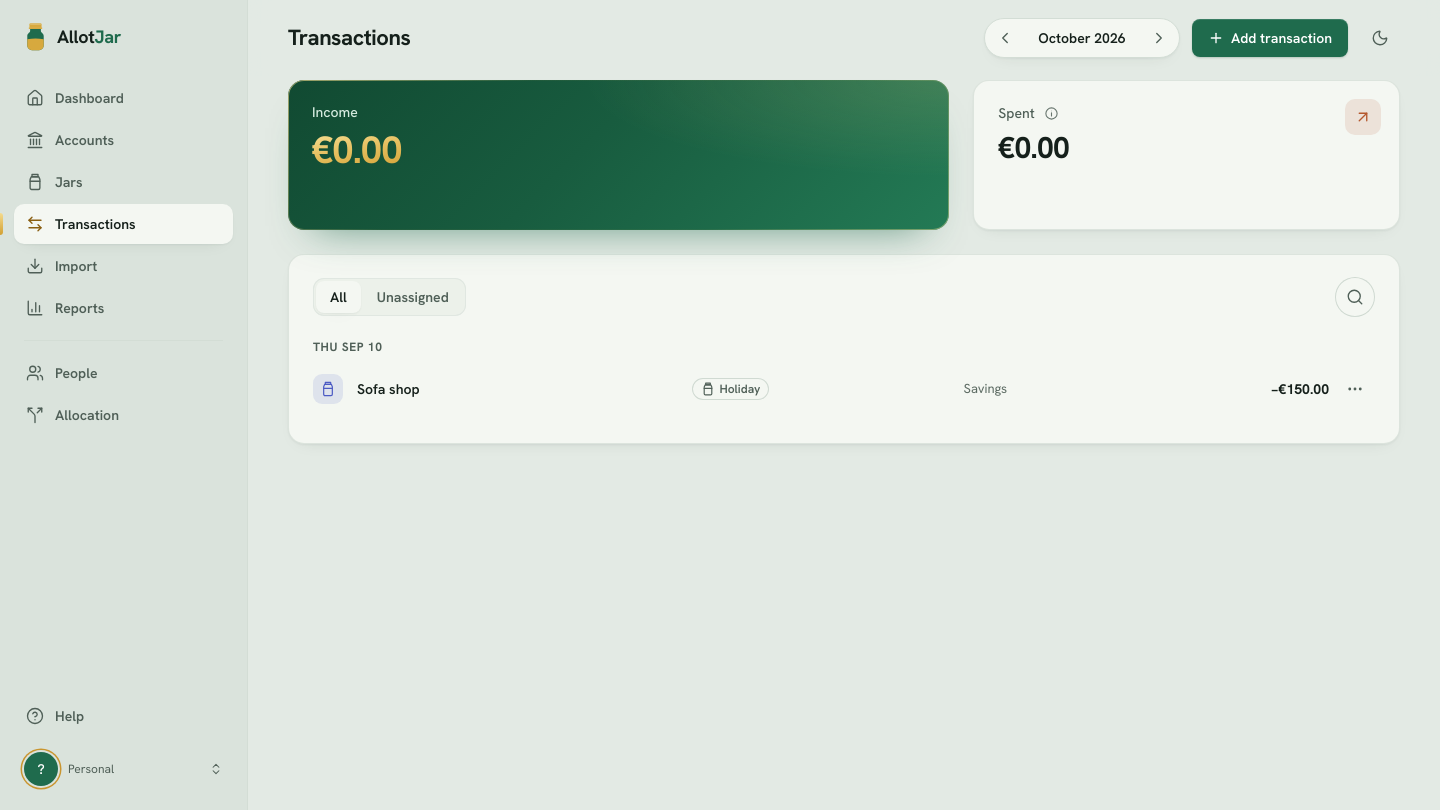
Test case: TransactionsPage jar prompts › O9b: a refund's jar prompt says what leaving it empty does
Click the button "Add transaction": (1270, 38) x1=1192 y1=19 x2=1348 y2=57
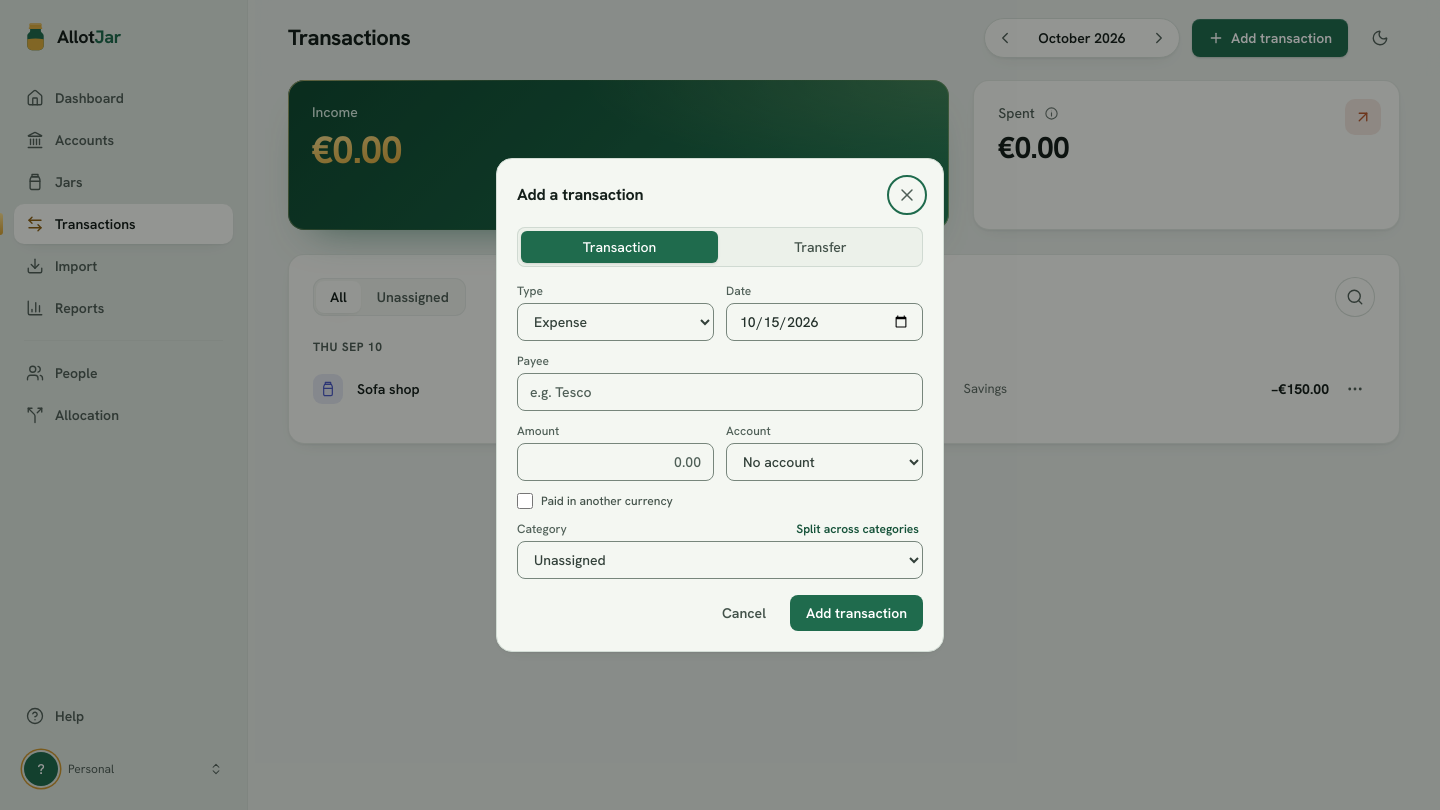
Select "Refund" in the dropdown named "Transaction type": (616, 322) x1=517 y1=303 x2=714 y2=341
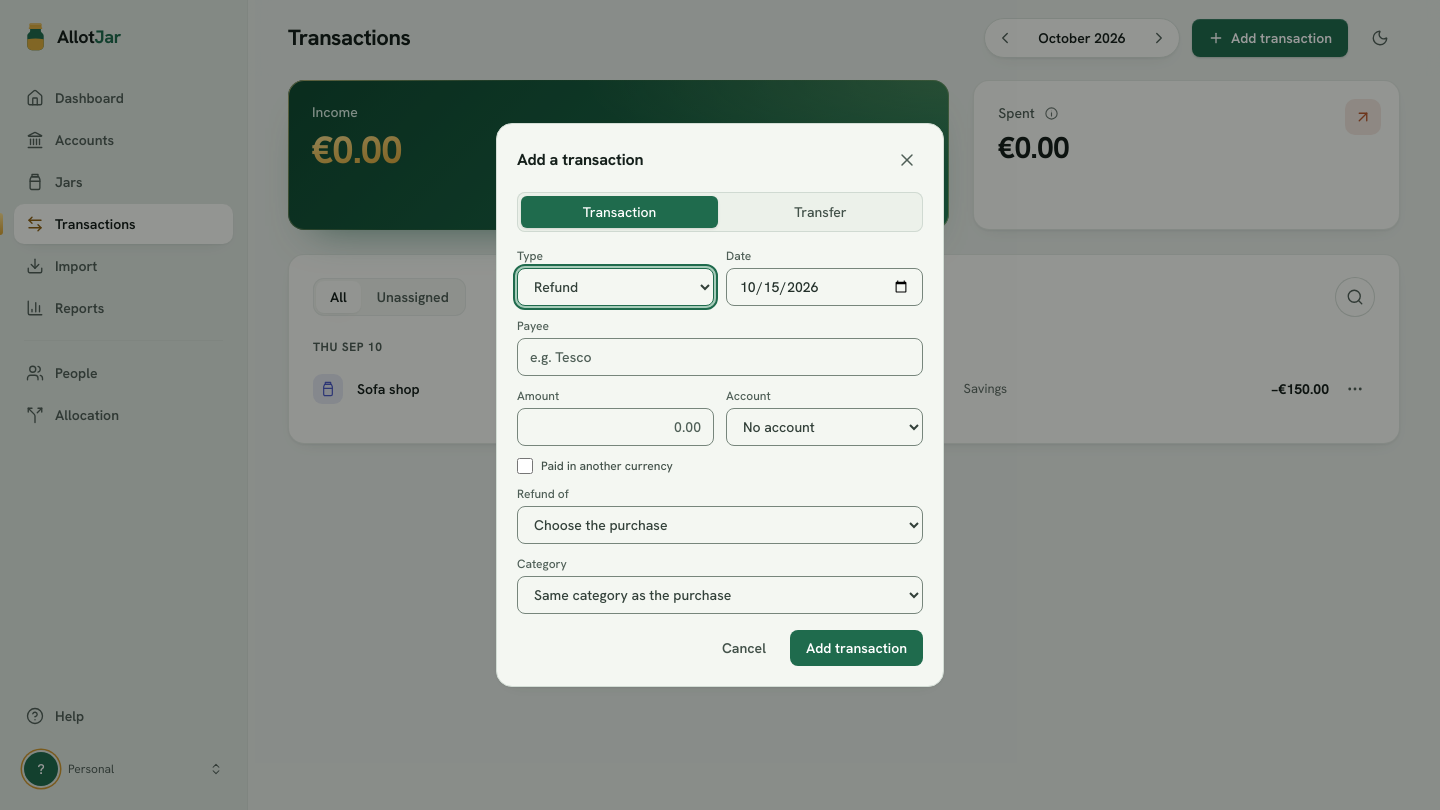
Select "Savings" in the dropdown named "Transaction account": (824, 427) x1=726 y1=408 x2=923 y2=446
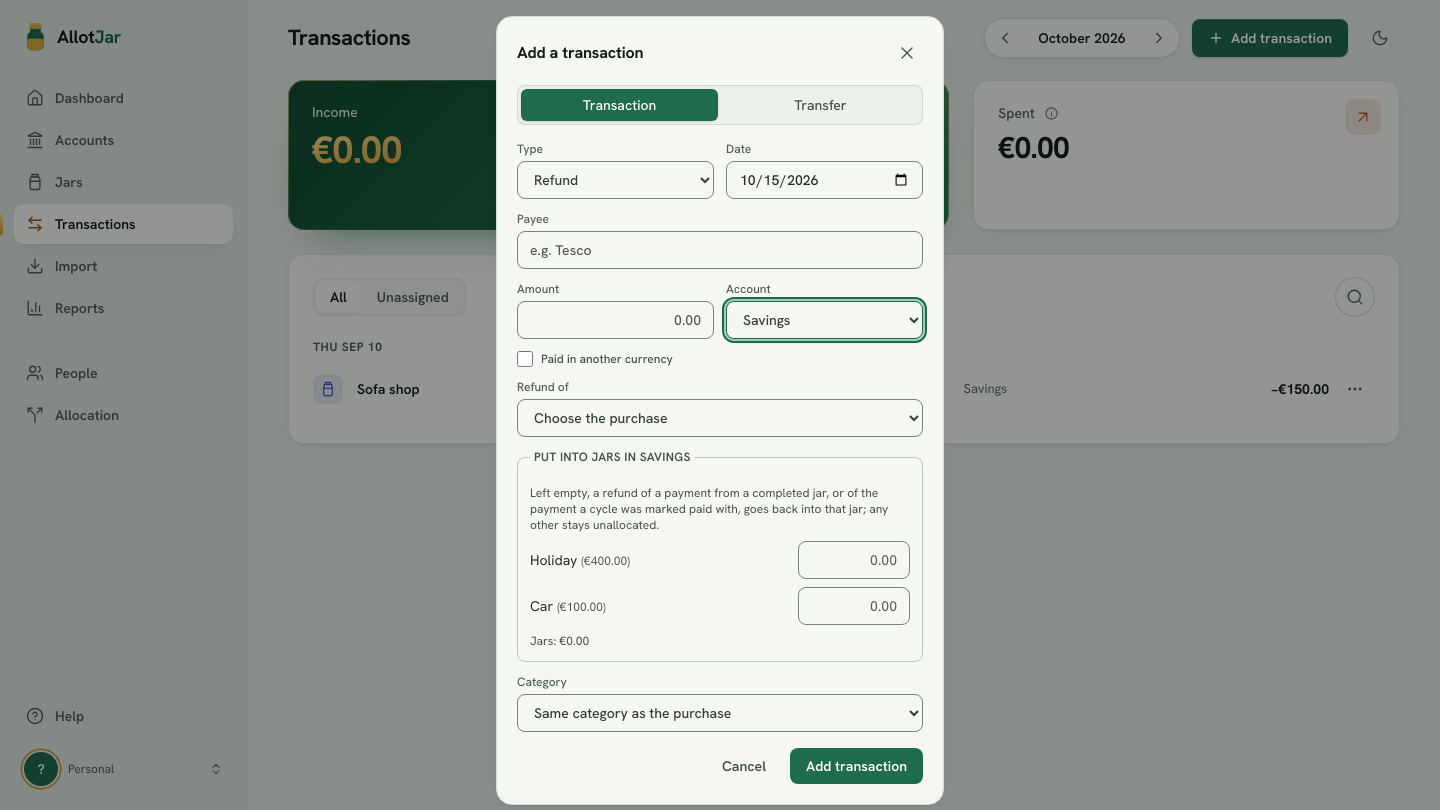
Expected: the element with test id "add-jar-allocation" does not show "Leave a jar empty to keep that money unallocated.", x1=517 y1=449 x2=923 y2=662
Result: the element with test id "add-jar-allocation" shows "Left empty, a refund of a payment from a completed jar, or of the payment a cycle was marked paid with, goes back into that jar; any other stays unallocated." at x1=530 y1=485 x2=888 y2=533
